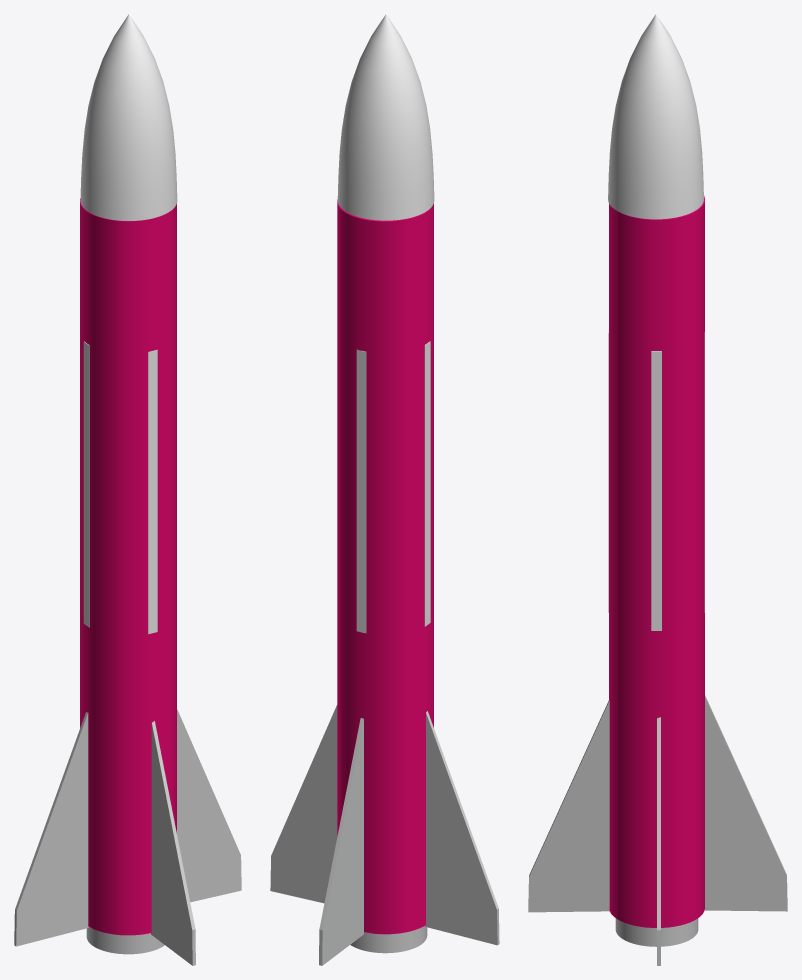
Rendered from Missile.fbx.
3 views of the same model, side by side, from view 1: azimuth 30°, elevation 25°; view 2: azimuth 150°, elevation 25°; view 3: azimuth 270°, elevation 25° (orthographic).
Parts seen in each view (by area): view 1: polySurface28; view 2: polySurface28; view 3: polySurface28.
Part boxes in pixels (<box>): polySurface28: <box>14,14,241,965</box>; polySurface28: <box>270,14,499,965</box>; polySurface28: <box>528,14,787,965</box>.
Size of the model in its own units: 8.93 by 34.75 by 8.93.
